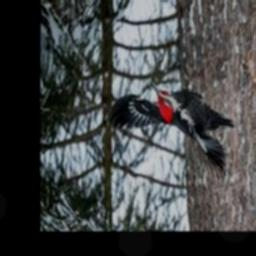Woodpecker: (105, 84, 234, 180)
